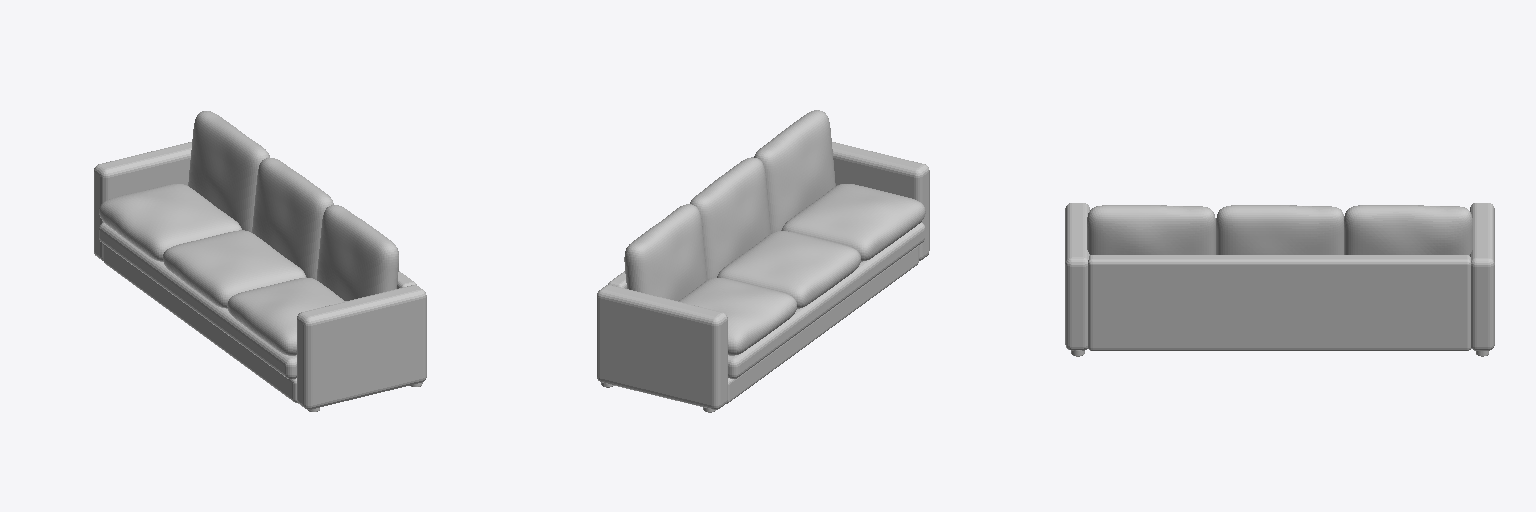
The model's file is Realistic sofa only.obj.
3 renders of one model, left to right at view 1: azimuth 30°, elevation 25°; view 2: azimuth 150°, elevation 25°; view 3: azimuth 270°, elevation 25°, orthographic.
Parts seen in each view (by area): view 1: sofa Cubo_2, sofa HyperNURBS_1 Cubo, sofa HyperNURBS_2 Cubo3, sofa HyperNURBS_4 Cubo2, sofa HyperNURBS_5 Cubo5, sofa HyperNURBS_3 Cubo6, sofa HyperNURBS Cubo4, sofa Cubo1, sofa Cubo_1, sofa Cubo_21; view 2: sofa Cubo_1, sofa HyperNURBS Cubo4, sofa HyperNURBS_1 Cubo, sofa HyperNURBS_3 Cubo6, sofa HyperNURBS_4 Cubo2, sofa HyperNURBS_5 Cubo5, sofa HyperNURBS_2 Cubo3, sofa Cubo1, sofa Cubo_2, sofa Cubo_21; view 3: sofa Cubo_3, sofa HyperNURBS_5 Cubo5, sofa HyperNURBS_3 Cubo6, sofa HyperNURBS_4 Cubo2, sofa Cubo_1, sofa Cubo_2.
Part boxes in pixels (x1,y1,x2,y2): sofa Cubo_2: (297,285,426,409); sofa HyperNURBS_1 Cubo: (163,230,306,308); sofa HyperNURBS_2 Cubo3: (99,184,241,261); sofa HyperNURBS_4 Cubo2: (252,158,333,279); sofa HyperNURBS_5 Cubo5: (188,111,269,232); sofa HyperNURBS_3 Cubo6: (317,205,398,300); sofa HyperNURBS Cubo4: (227,278,345,355); sofa Cubo1: (99,222,296,378); sofa Cubo_1: (94,142,191,260); sofa Cubo_21: (103,244,297,402); sofa Cubo_1: (597,285,727,409); sofa HyperNURBS Cubo4: (781,184,925,261); sofa HyperNURBS_1 Cubo: (717,231,860,308); sofa HyperNURBS_3 Cubo6: (754,110,835,232); sofa HyperNURBS_4 Cubo2: (690,157,770,279); sofa HyperNURBS_5 Cubo5: (624,204,706,300); sofa HyperNURBS_2 Cubo3: (678,278,796,355); sofa Cubo1: (728,222,924,378); sofa Cubo_2: (832,142,929,260); sofa Cubo_21: (726,245,918,403); sofa Cubo_3: (1088,255,1470,350); sofa HyperNURBS_5 Cubo5: (1344,205,1472,255); sofa HyperNURBS_3 Cubo6: (1087,205,1215,254); sofa HyperNURBS_4 Cubo2: (1216,205,1343,254); sofa Cubo_1: (1470,203,1494,350); sofa Cubo_2: (1065,203,1089,350).
Bounding box in the file's own units: 490 × 489 × 1368.